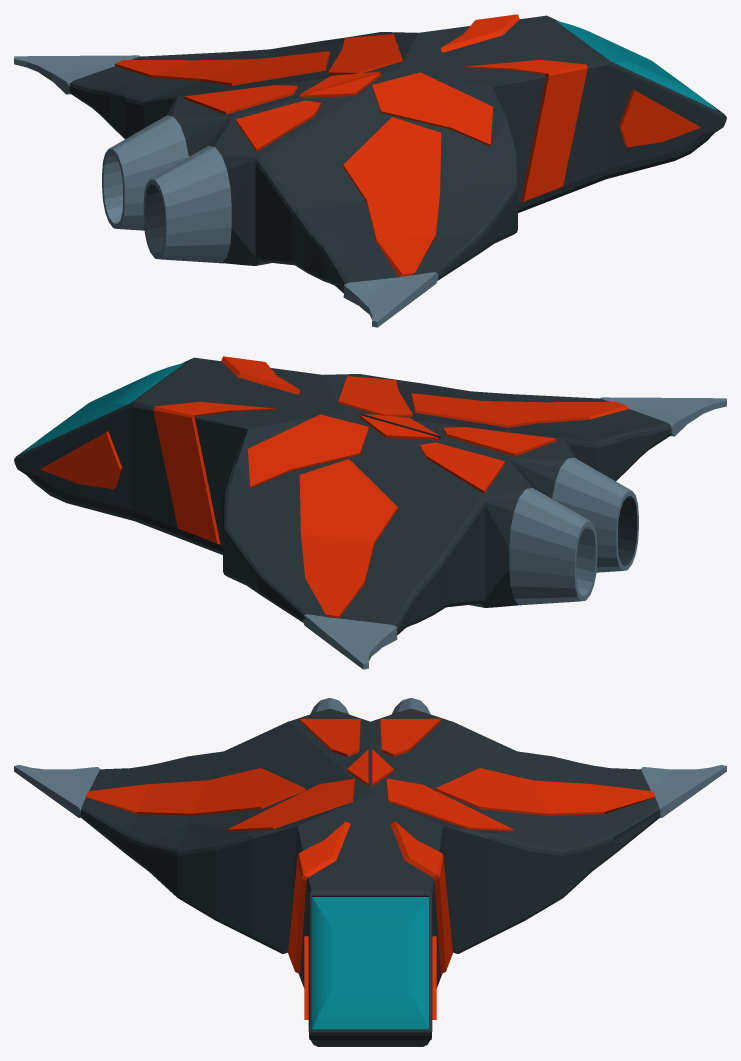
File: Player Ship.fbx
3 renders of one model, top to bottom at view 1: azimuth 30°, elevation 25°; view 2: azimuth 150°, elevation 25°; view 3: azimuth 270°, elevation 25°, orthographic.
Parts seen in each view (by area): view 1: Cube; view 2: Cube; view 3: Cube.
Part boxes in pixels (<box>): Cube: <box>14,14,726,327</box>; Cube: <box>14,356,726,669</box>; Cube: <box>14,698,726,1046</box>.
Bounding box in the file's own units: 476 × 115 × 533.
1 material, 1 textured.
